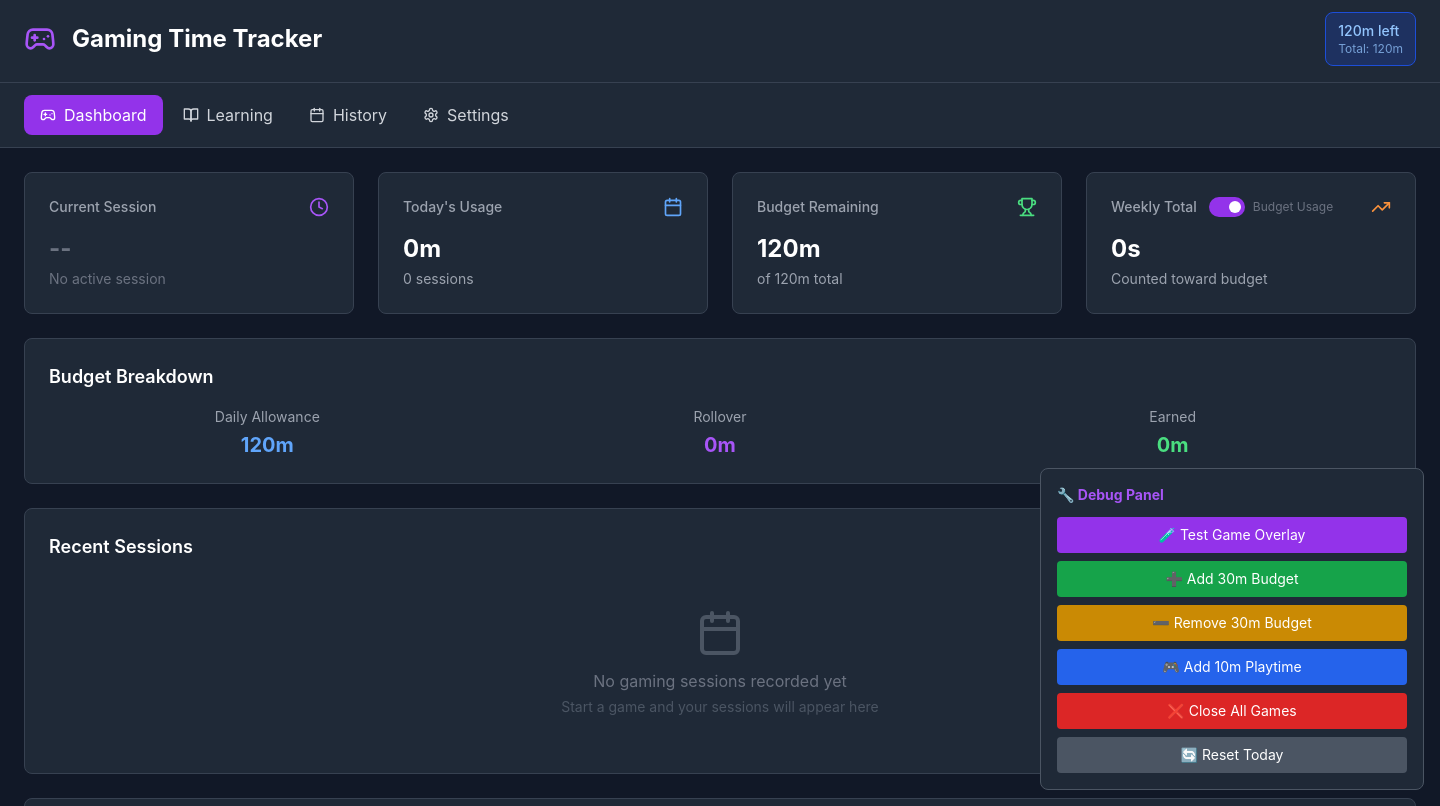
Test case: End-to-End User Scenarios › Learning Activity Integration › navigates through learning workflow
Check: the heading "Gaming Time Tracker" is shown, box [72,23,322,55]
Click the button "Learning" at (228,115), box [166,95,289,135]
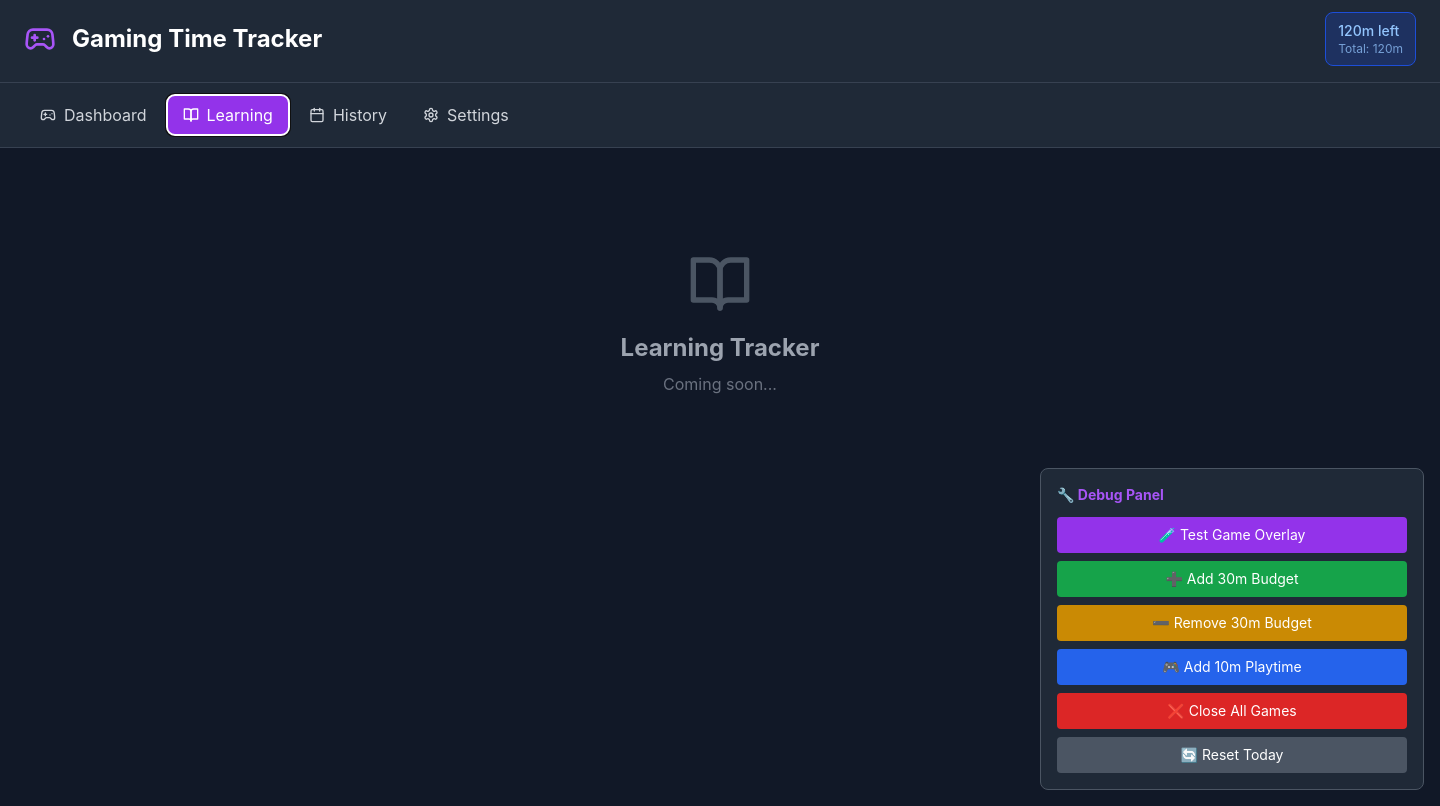
Check: the heading "Learning Tracker" is shown, box [621,333,819,362]
Check: the text "Coming soon..." is shown, box [663,374,777,394]
Click the button "Dashboard" at (93,115), box [24,95,162,135]
(page scrolled)
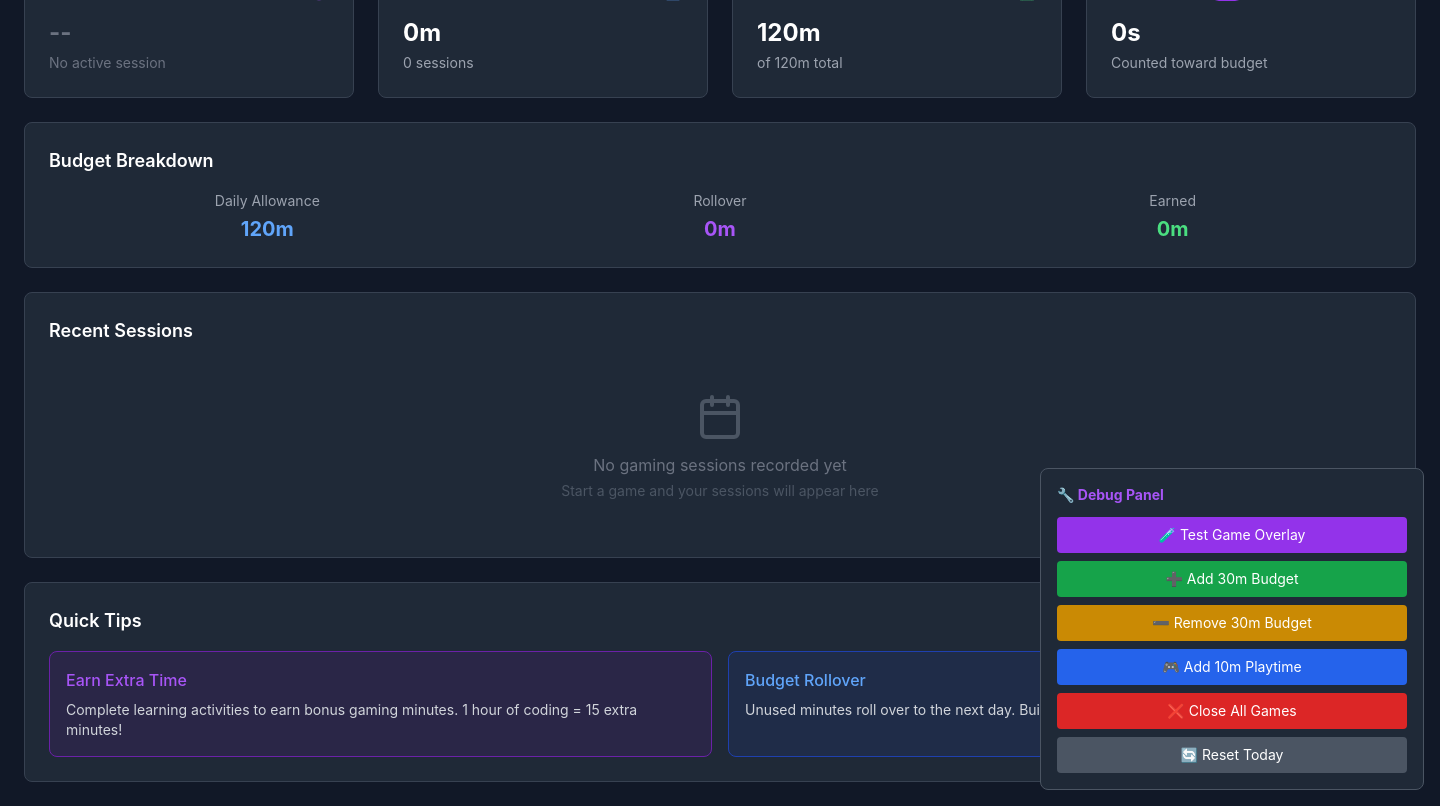
Check: the heading "Earn Extra Time" is shown, box [66,670,187,690]
Check: the text "1 hour of coding = 15 extra minutes" is shown, box [66,701,637,738]
